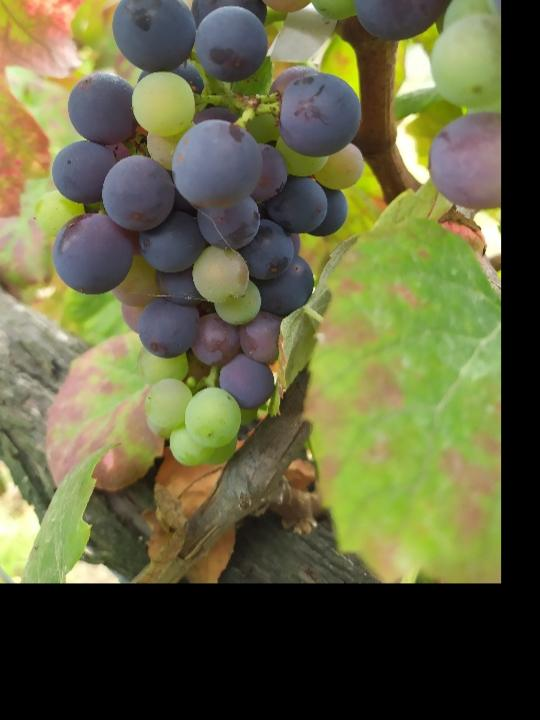grape: (47, 0, 371, 469)
